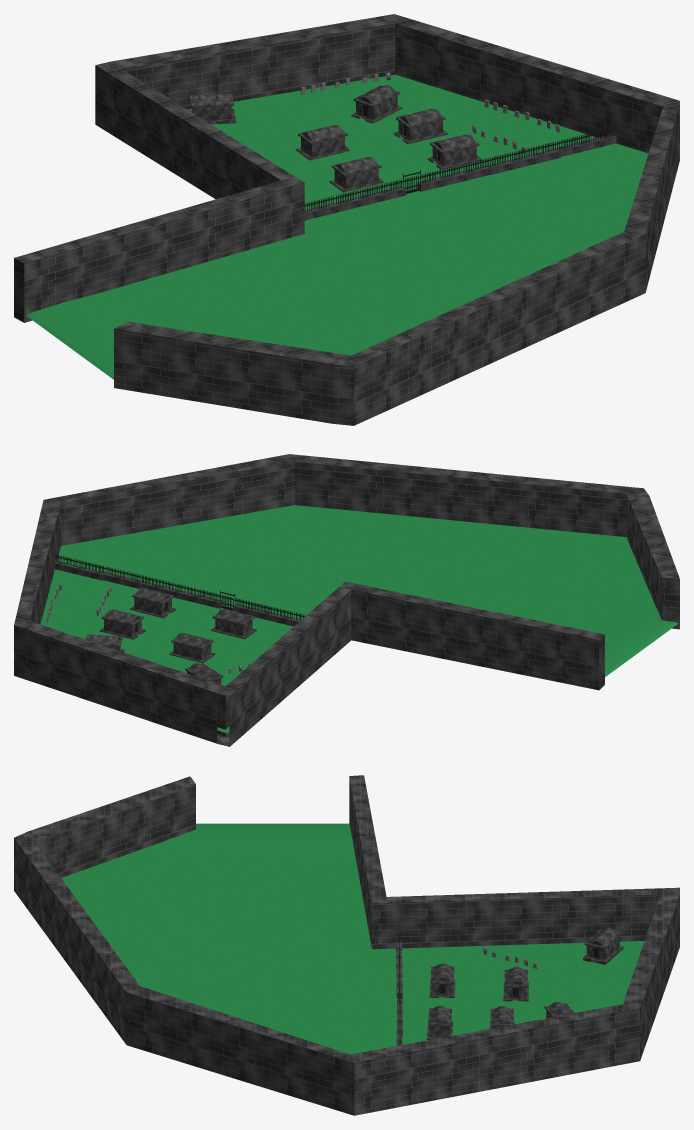
Rendered from BossCemetery.dae.
The picture shows the model from 3 angles, top to bottom: view 1: azimuth 30°, elevation 25°; view 2: azimuth 150°, elevation 25°; view 3: azimuth 270°, elevation 25°; orthographic projection. The views are drawn at different scales.
Parts seen in each view (by area): view 1: CemeteryBossWalls, CemeteryBossGrass, CemeteryBossMausoleumsLower, CemeteryBossCemeteryWalls, CemeteryBossMausoleum; view 2: CemeteryBossWalls, CemeteryBossGrass, CemeteryBossMausoleumsLower, CemeteryBossCemeteryWalls, CemeteryBossMausoleum; view 3: CemeteryBossWalls, CemeteryBossGrass, CemeteryBossMausoleumsLower, CemeteryBossMausoleum, CemeteryBossCemeteryWalls.
Boxes of the visible parts, x1,y1,x2,y2 form: CemeteryBossWalls: (14,14,679,425); CemeteryBossGrass: (26,74,648,379); CemeteryBossMausoleumsLower: (295,85,481,192); CemeteryBossCemeteryWalls: (304,127,616,220); CemeteryBossMausoleum: (188,93,235,124); CemeteryBossWalls: (14,454,679,746); CemeteryBossGrass: (40,505,678,733); CemeteryBossMausoleumsLower: (85,587,256,663); CemeteryBossCemeteryWalls: (55,555,306,626); CemeteryBossMausoleum: (185,663,223,684); CemeteryBossWalls: (14,775,679,1115); CemeteryBossGrass: (61,823,644,1054); CemeteryBossMausoleumsLower: (426,963,574,1039); CemeteryBossMausoleum: (583,928,623,964); CemeteryBossCemeteryWalls: (396,935,402,1045).
Size of what is drawn, in the model's own units: 90.41 by 88.5 by 7.78.
4 materials, 2 textured.
